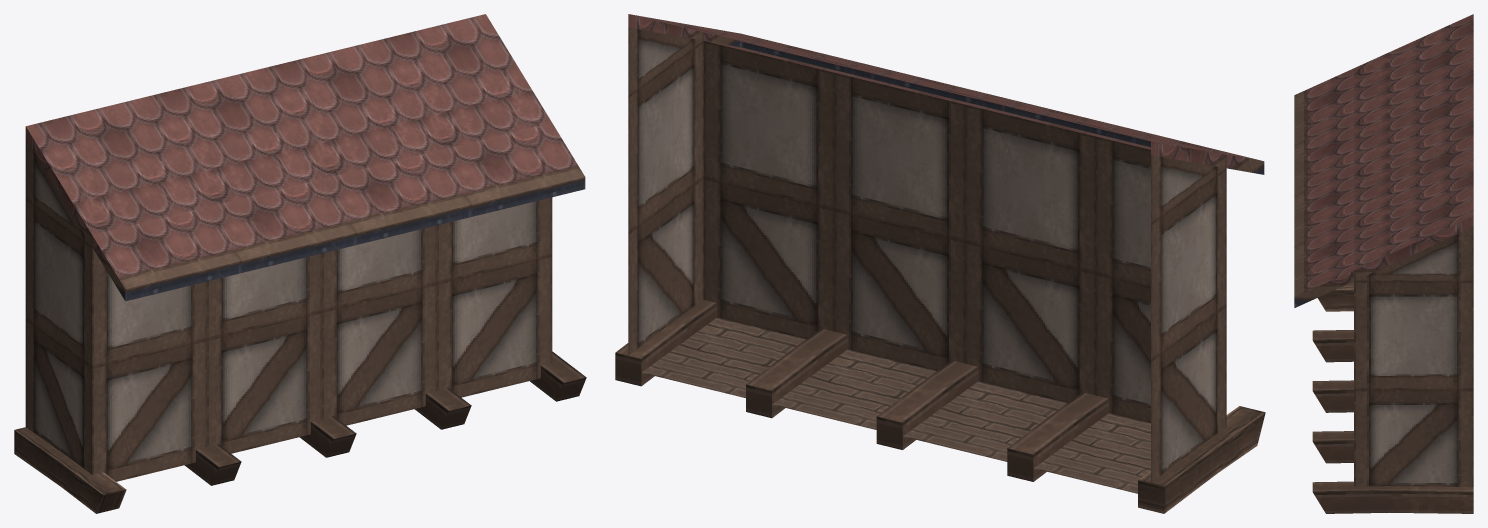
File: roof_red_stickout.glb
3 views of the same model, side by side, from view 1: azimuth 30°, elevation 25°; view 2: azimuth 150°, elevation 25°; view 3: azimuth 270°, elevation 25° (orthographic). The views are drawn at different scales.
Visible parts, largest first — view 1: roof_red_stickout; view 2: roof_red_stickout; view 3: roof_red_stickout.
Boxes of the visible parts, <box> form: roof_red_stickout: <box>14,14,586,513</box>; roof_red_stickout: <box>615,14,1265,513</box>; roof_red_stickout: <box>1294,14,1473,513</box>.
Bounding box in the file's own units: 4.2 × 2.7 × 1.5.
Materials: 1 (1 with a texture image).
